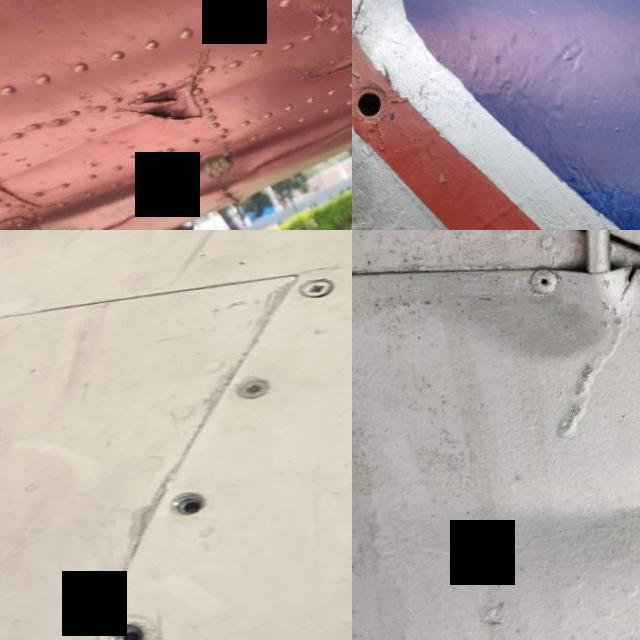Crack: (0, 230, 87, 311), (608, 242, 640, 302)
Missing_Fastener: (352, 51, 410, 141), (161, 485, 210, 518), (97, 615, 154, 640)
